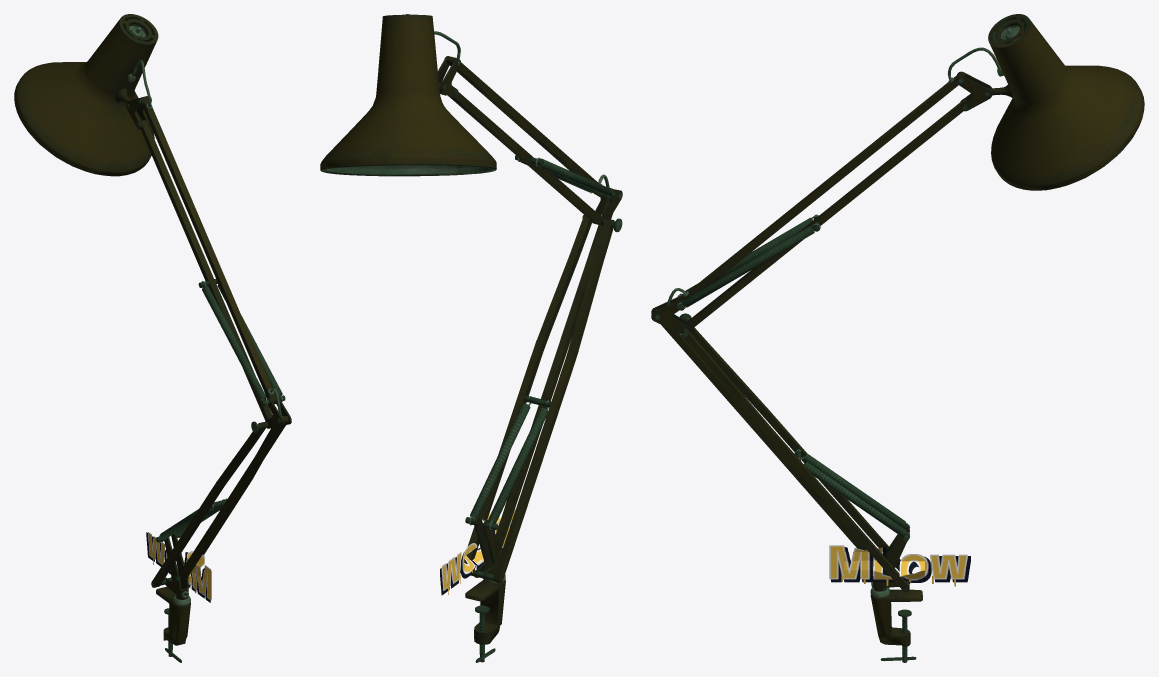
The model's file is nyb_crowd_lamp.glb.
3 renders of one model, left to right at view 1: azimuth 30°, elevation 25°; view 2: azimuth 150°, elevation 25°; view 3: azimuth 270°, elevation 25°, orthographic. The views are drawn at different scales.
Parts seen in each view (by area): view 1: desk_lamp_arm_01, stk_tag_mlow_gold.png; view 2: desk_lamp_arm_01, stk_tag_mlow_gold.png; view 3: desk_lamp_arm_01, stk_tag_mlow_gold.png.
Part boxes in pixels (<box>): desk_lamp_arm_01: <box>14,14,291,662</box>; stk_tag_mlow_gold.png: <box>146,532,211,602</box>; desk_lamp_arm_01: <box>320,14,622,662</box>; stk_tag_mlow_gold.png: <box>440,508,515,595</box>; desk_lamp_arm_01: <box>651,14,1144,662</box>; stk_tag_mlow_gold.png: <box>829,545,970,586</box>.
Size of the model in its own units: 0.202 by 0.8926 by 0.6141.
3 materials, 3 textured.
